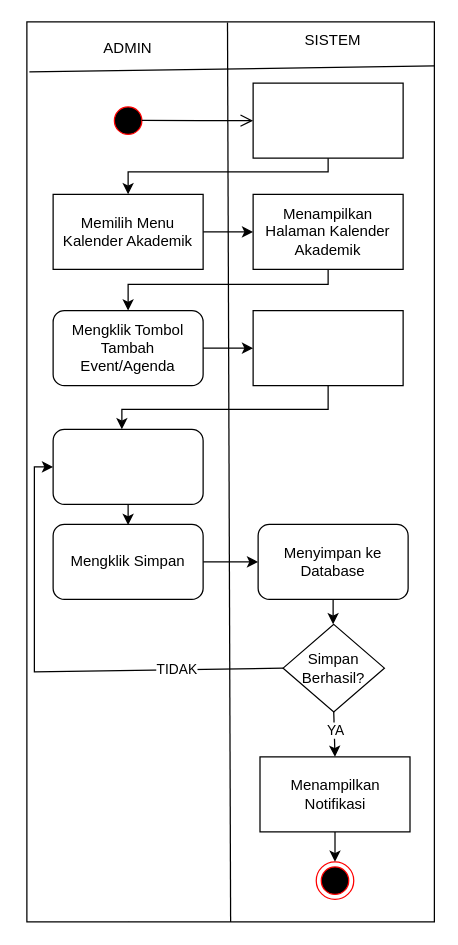
This 458x945 diagram has some shape labels left out. The centre of each missing label's shape, as x and y in pixels:
Menampilkan Form Tambah Event/Agenda: [327,347]
Menampilkan Halaman Dashboard Admin: [327,120]
Mengisi Detail Event/Agenda: [127,466]
